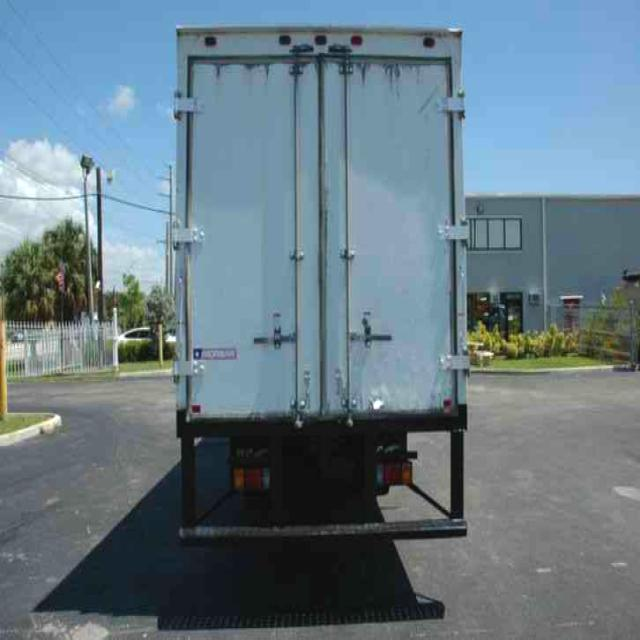truck: (173, 27, 469, 550)
